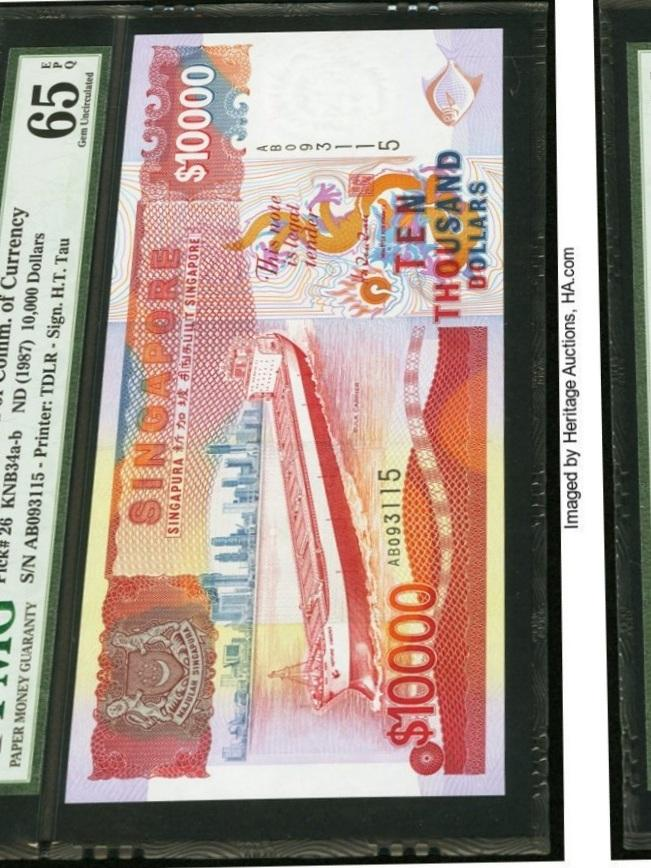10000SingaporeDollar: (92, 36, 499, 791)
